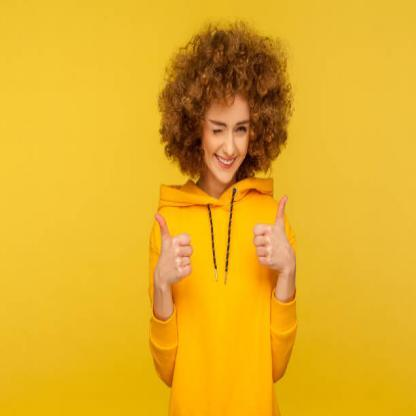thumb_up: (249, 191, 298, 281), (152, 207, 194, 287)
